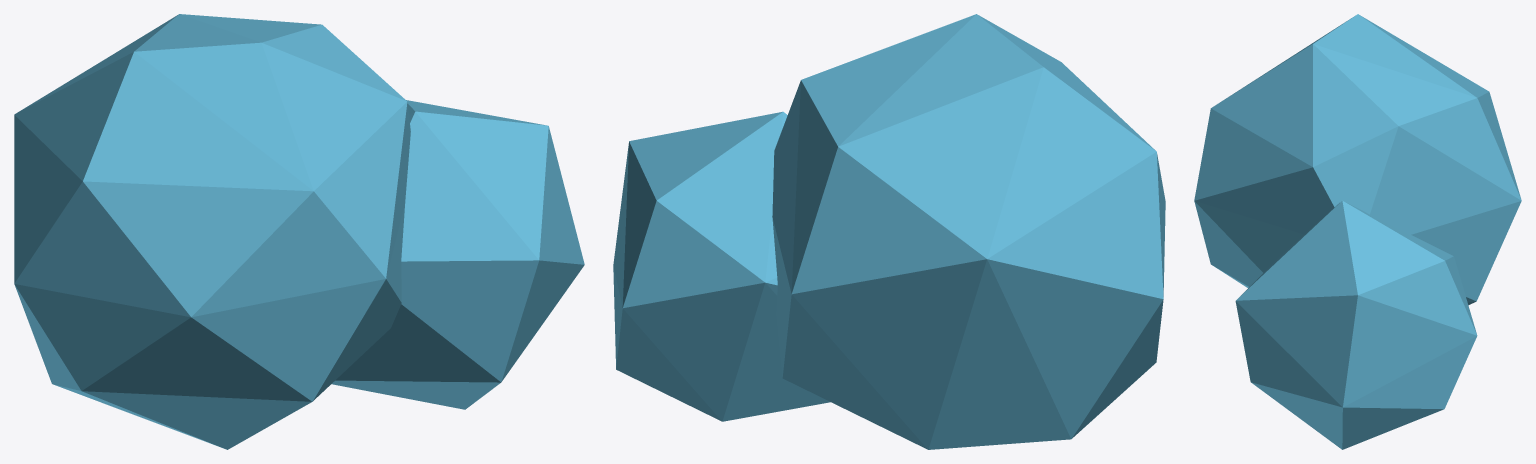
File: Cloud_v04.fbx
The picture shows the model from 3 angles, left to right: view 1: azimuth 30°, elevation 25°; view 2: azimuth 150°, elevation 25°; view 3: azimuth 270°, elevation 25°; orthographic projection. The views are drawn at different scales.
Parts seen in each view (by area): view 1: Cloud_v04; view 2: Cloud_v04; view 3: Cloud_v04.
Boxes of the visible parts, x1,y1,x2,y2 form: Cloud_v04: (14, 14, 584, 449); Cloud_v04: (613, 14, 1165, 449); Cloud_v04: (1194, 14, 1521, 449).
Bounding box in the file's own units: 26.47 × 19.68 × 17.98.
Materials: 1 (1 with a texture image).
